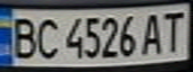2: (100, 13, 121, 60)
4: (60, 13, 84, 60)
5: (81, 14, 103, 61)
6: (118, 11, 142, 58)
A: (139, 10, 166, 56)
B: (6, 14, 39, 61)
C: (33, 15, 60, 61)
T: (157, 8, 190, 54)
